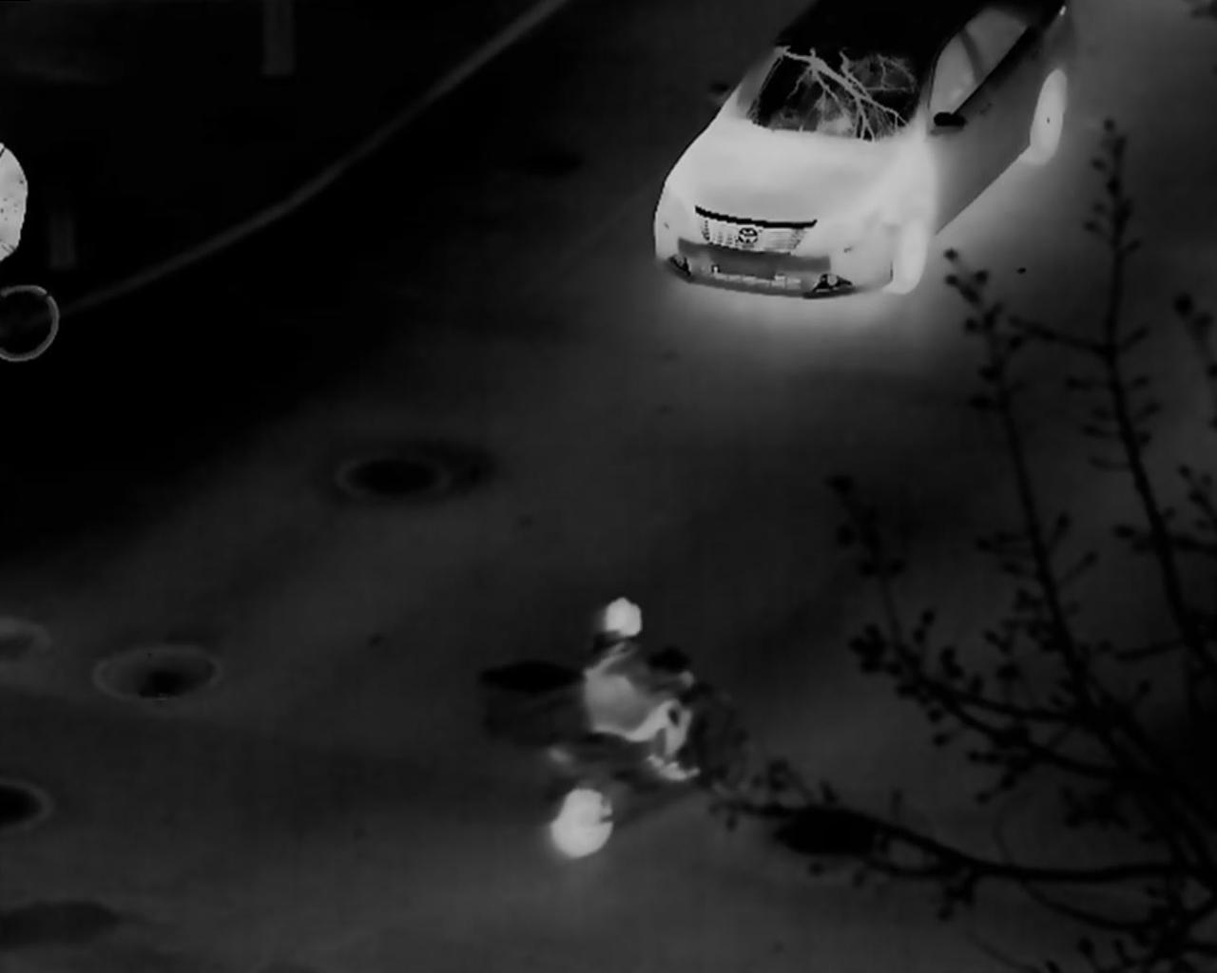person: (586, 597, 700, 784)
